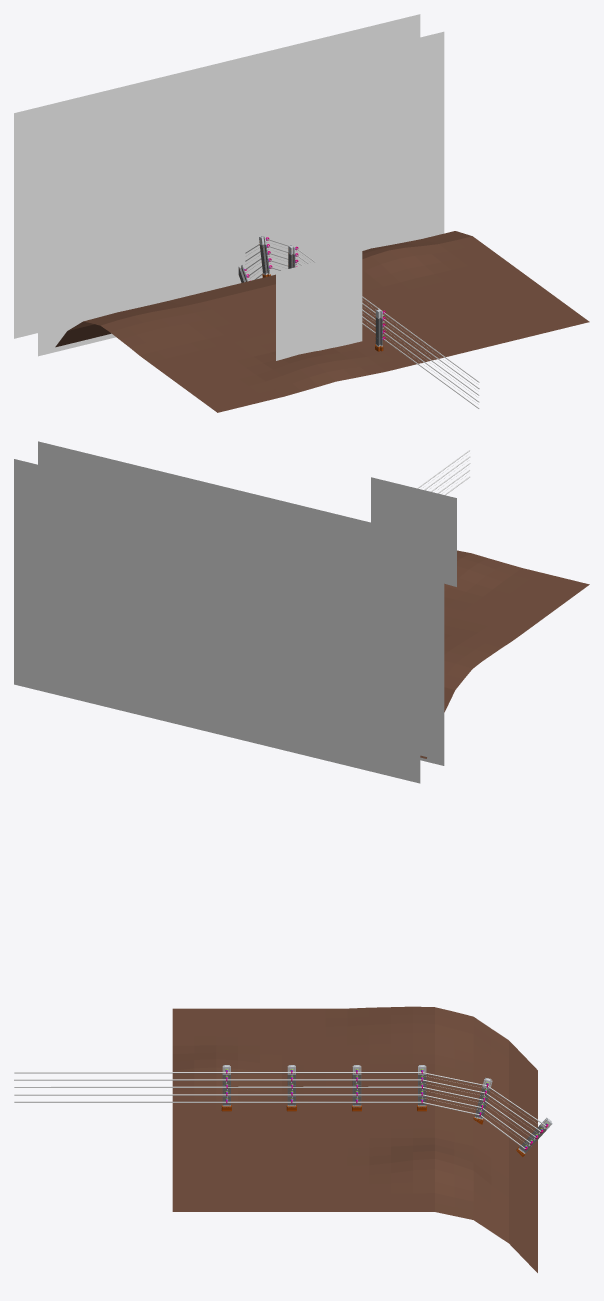
3 renders of one model, top to bottom at view 1: azimuth 30°, elevation 25°; view 2: azimuth 150°, elevation 25°; view 3: azimuth 270°, elevation 25°, orthographic. The views are drawn at different scales.
Visible parts, largest first — view 1: mountais_closer, Terrain, mountais, lama, fence; view 2: mountais, mountais_closer, Terrain, lama, fence; view 3: Terrain, fence.
Boxes of the visible parts, box(x1,y1,x2,y2) form: mountais_closer: box(38, 31, 444, 356); Terrain: box(55, 231, 589, 412); mountais: box(14, 14, 420, 338); lama: box(276, 251, 362, 360); fence: box(238, 236, 479, 408); mountais: box(14, 459, 420, 783); mountais_closer: box(38, 441, 444, 765); Terrain: box(420, 550, 589, 758); lama: box(371, 477, 456, 586); fence: box(417, 450, 470, 495); Terrain: box(172, 1006, 537, 1272); fence: box(14, 1065, 552, 1156).
Size of the model in its own units: 16.13 by 8.56 by 17.7.
